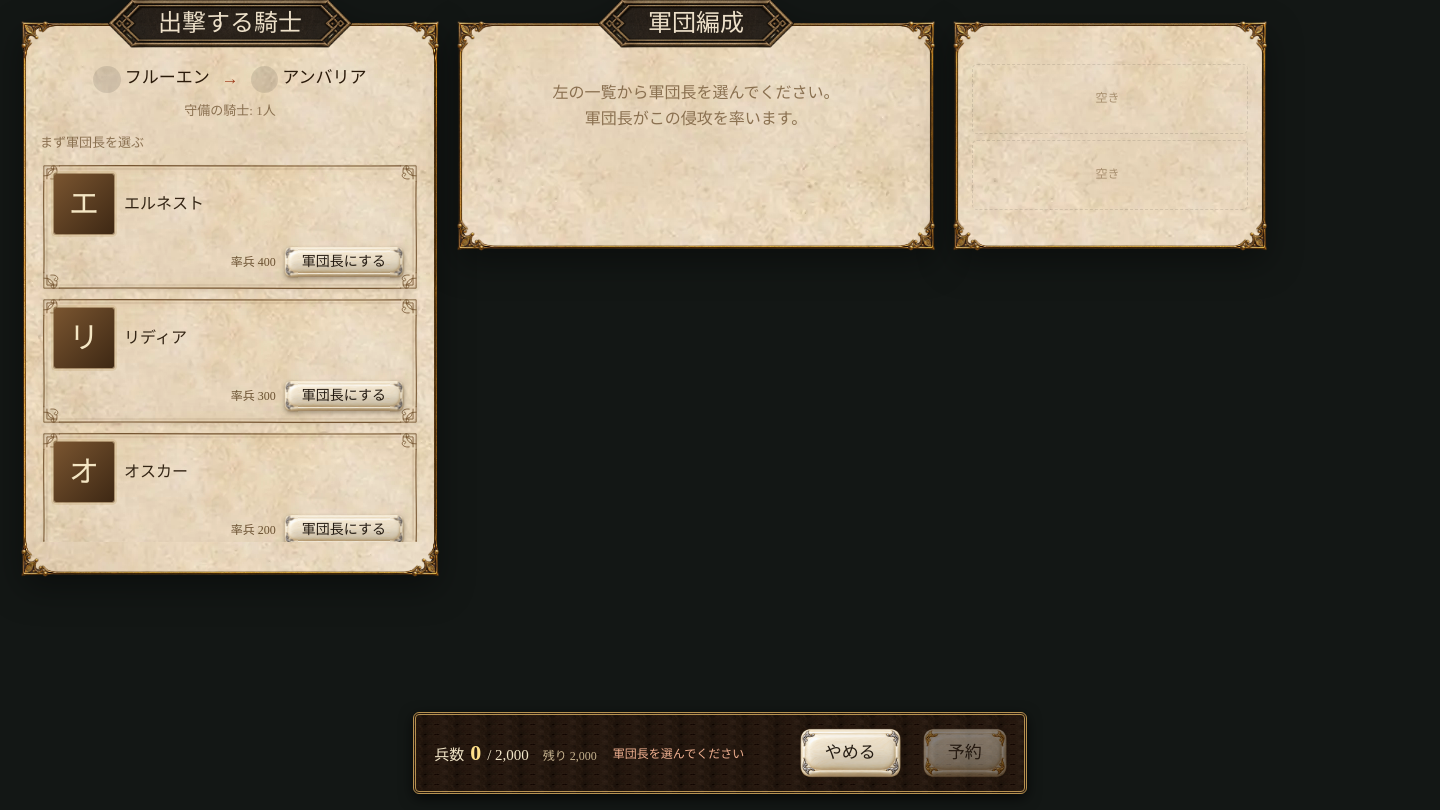
Test case: InvasionScreen › forms up to maxUnits units
This screenshot has width=1440, height=810.
Click the button with aria-label "エルネストを軍団長にする".
click(344, 262)  # box [282,244,406,280]
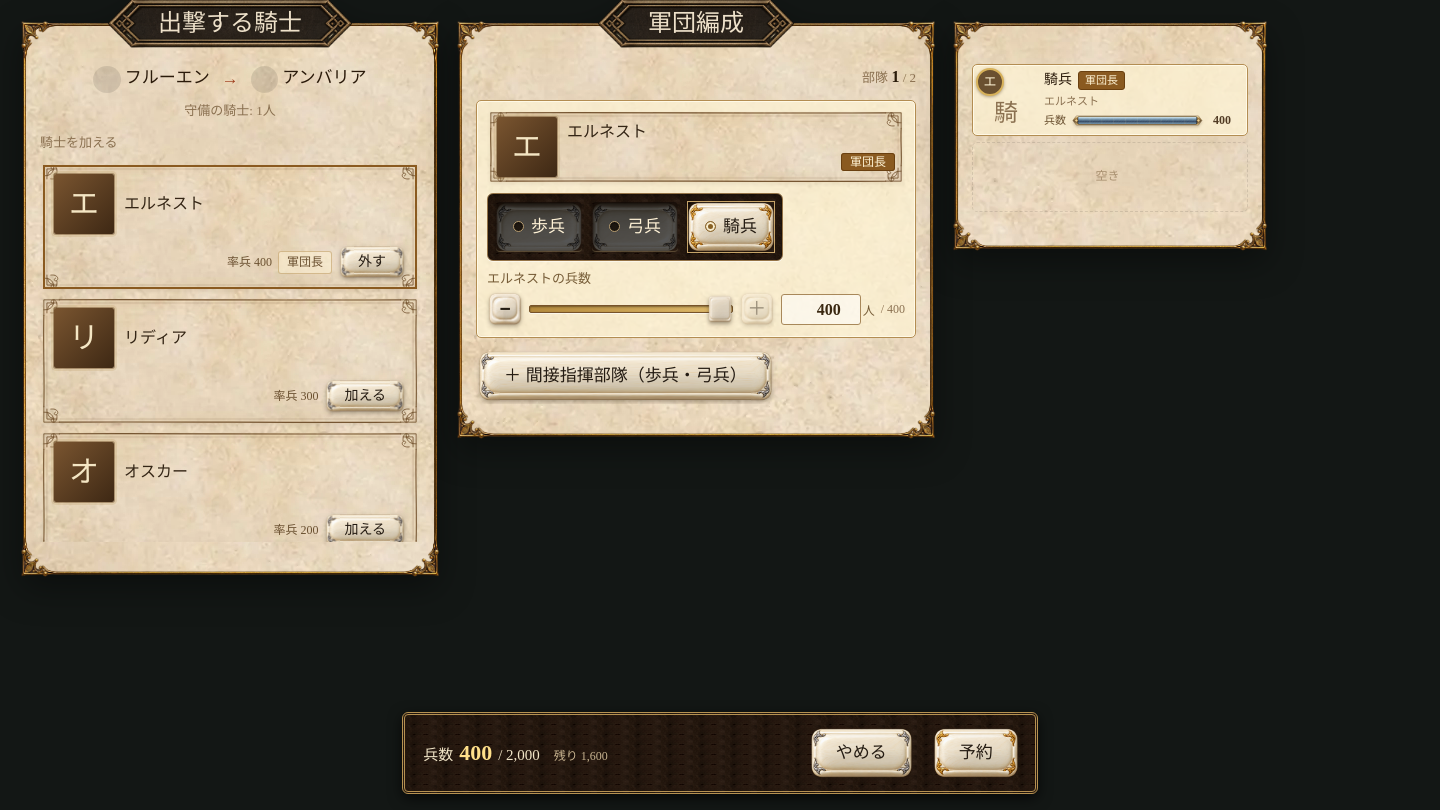
Click the button "＋ 間接指揮部隊（歩兵・弓兵）".
click(625, 376)  # box [476,348,775,404]
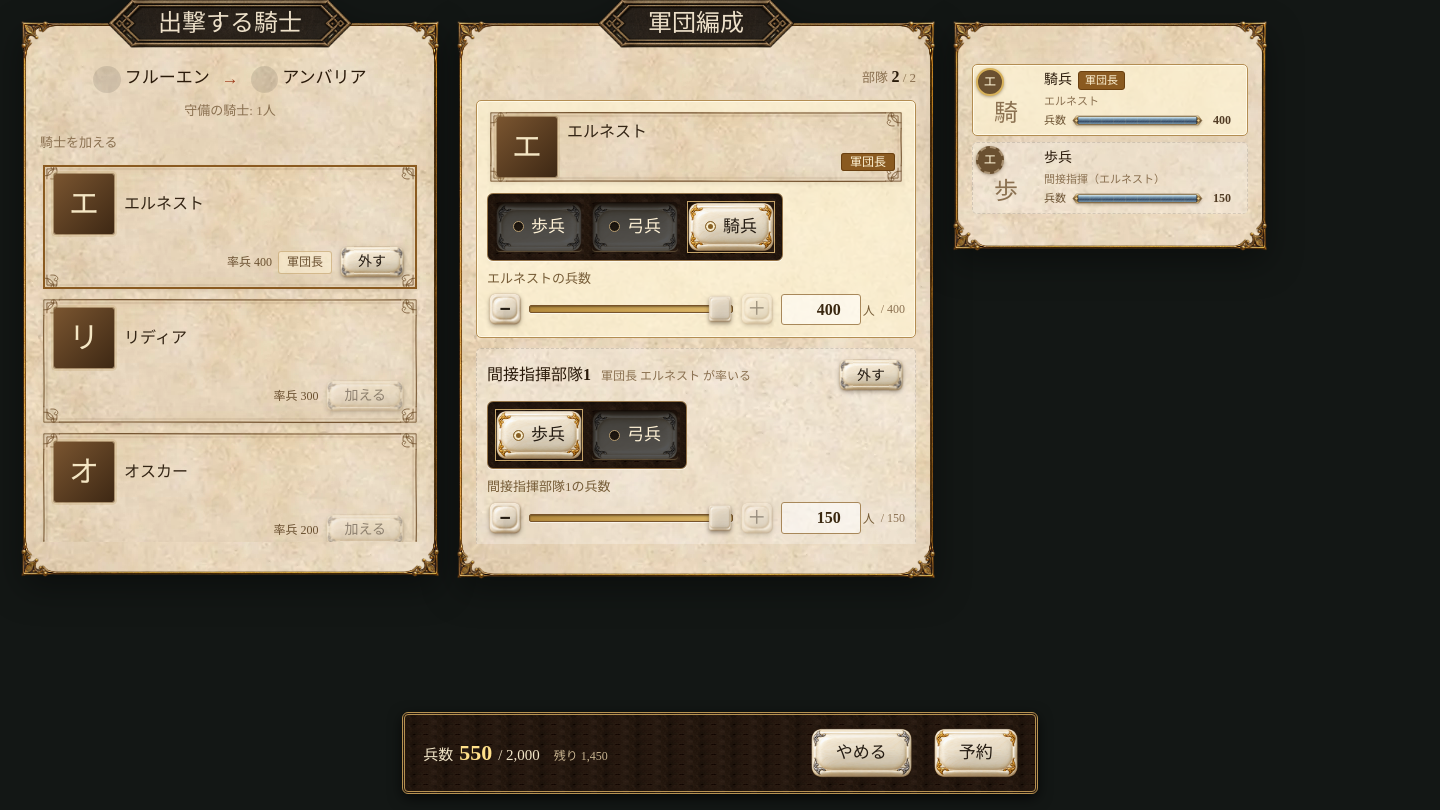
Now the button with aria-label "リディアを加える" is disabled, box [324,378,406,414]
Now the element with class "norden-invasion-count" reads "部隊 2 / 2", box [862,68,916,85]
Click the button with aria-label "間接指揮部隊1を外す".
click(871, 375)  # box [837,357,905,393]
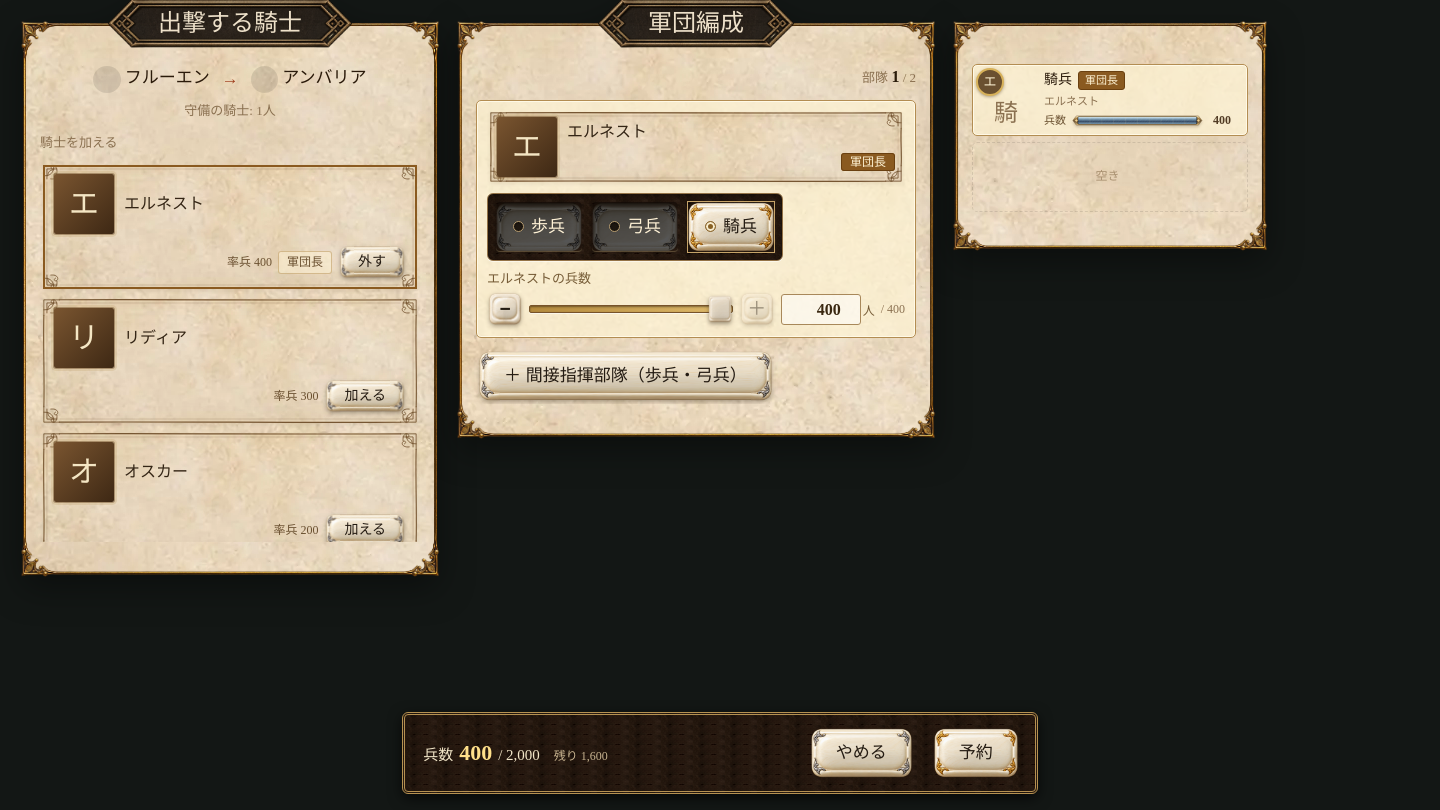
Now the button with aria-label "リディアを加える" is enabled, box [324,378,406,414]
